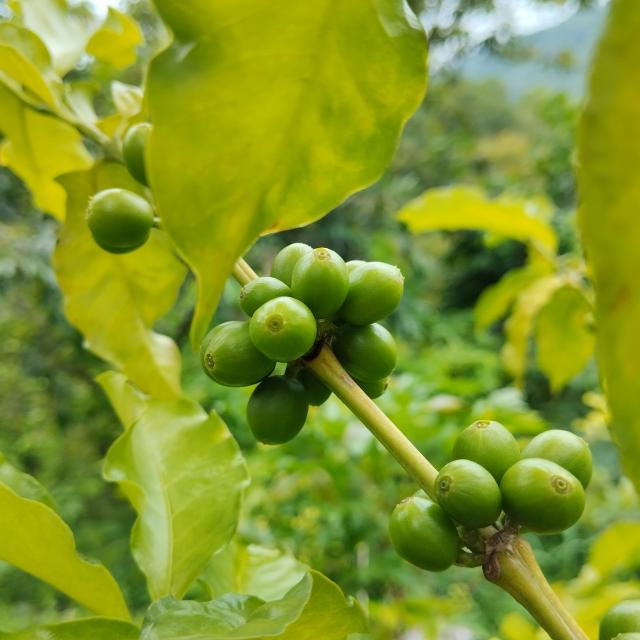green: (500, 459, 586, 535), (389, 497, 461, 573), (199, 321, 276, 387), (435, 460, 502, 530), (249, 296, 317, 362), (453, 420, 521, 484), (246, 375, 308, 445), (521, 430, 594, 489), (338, 262, 404, 326), (291, 247, 349, 319), (85, 188, 153, 248), (332, 323, 397, 382), (238, 277, 291, 317), (270, 242, 313, 288), (346, 260, 366, 273)
